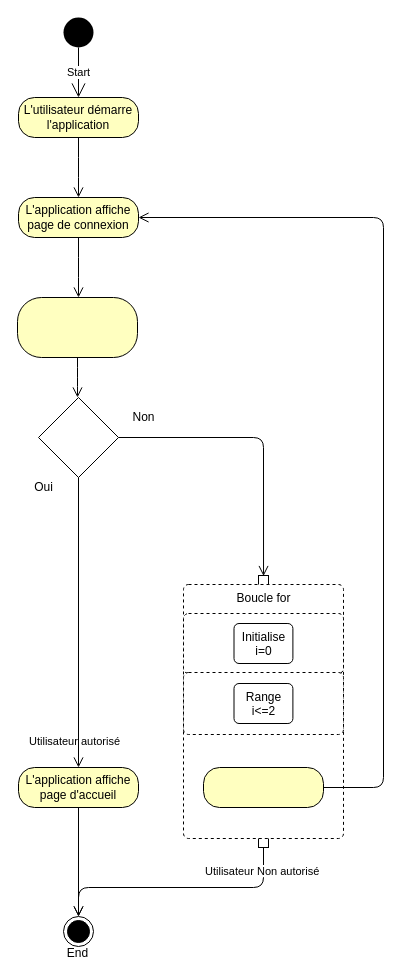
Image size: 411x980. Some labels were removed from this diagram. The box of each missing label's shape, as (x1, y1, x2, y2) in pixels:
Habilité ?: (38, 396, 118, 478)
L'application affiche un message d'erreur: (202, 766, 324, 808)
L'utilisateur saisie son identifiant et son mot de passe: (16, 296, 138, 358)
